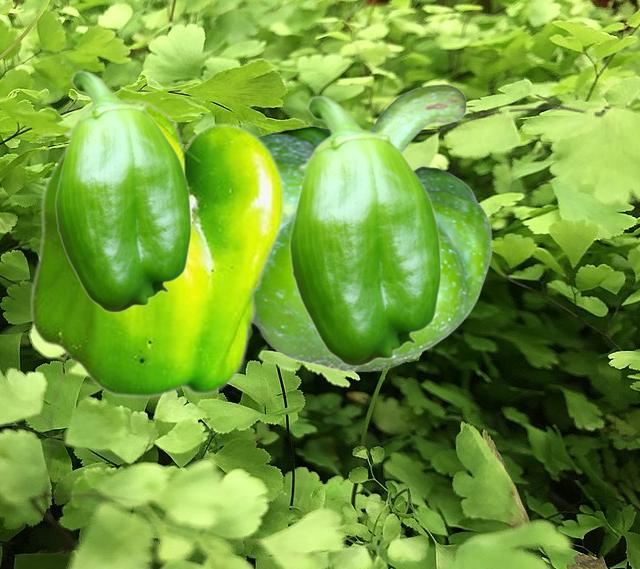bell_pepper: (29, 98, 283, 397), (253, 83, 491, 371), (288, 95, 441, 366), (54, 70, 191, 312)
